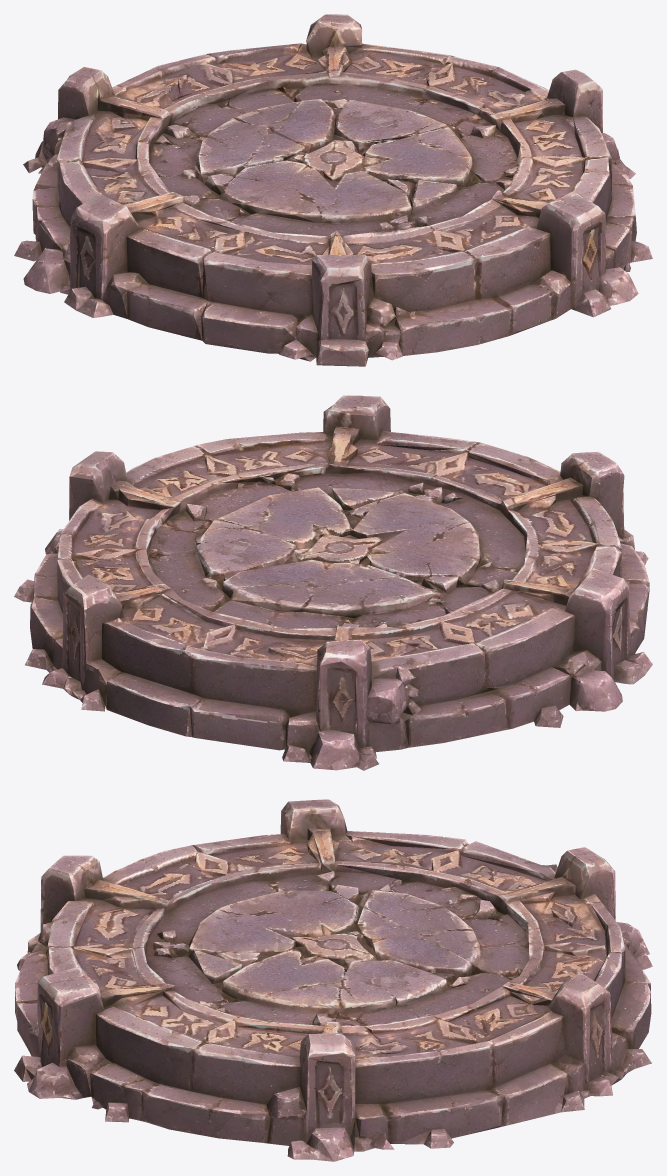
Rendered from purple_rune_dais.glb.
3 renders of one model, top to bottom at view 1: azimuth 30°, elevation 25°; view 2: azimuth 150°, elevation 25°; view 3: azimuth 270°, elevation 25°, orthographic. The views are drawn at different scales.
Visible parts, largest first — view 1: body; view 2: body; view 3: body.
Boxes of the visible parts, x1,y1,x2,y2 form: body: (14, 14, 652, 366); body: (14, 395, 652, 770); body: (14, 799, 652, 1161).
Size of the model in its own units: 3 by 0.4912 by 2.8.
Materials: 1 (1 with a texture image).
